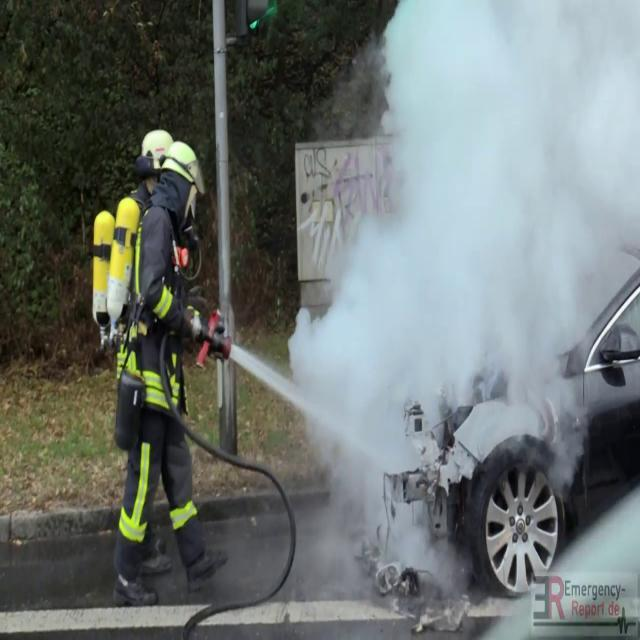Smoke: (292, 0, 640, 485)
